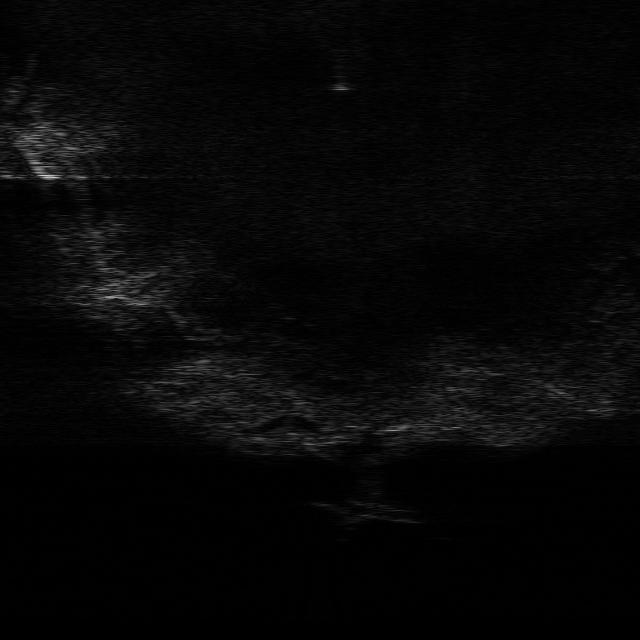plane: (312, 499, 422, 526)
